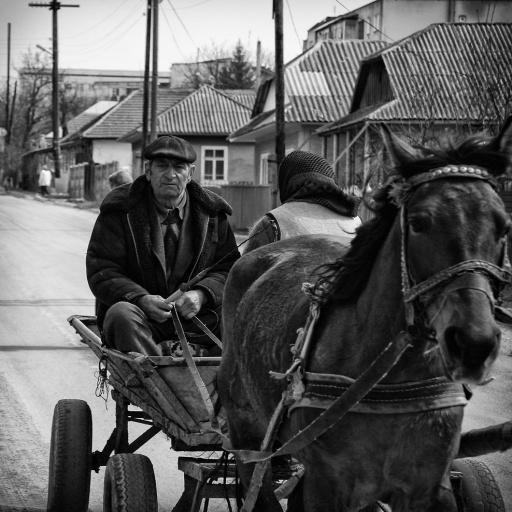Horse: (197, 120, 512, 512)
